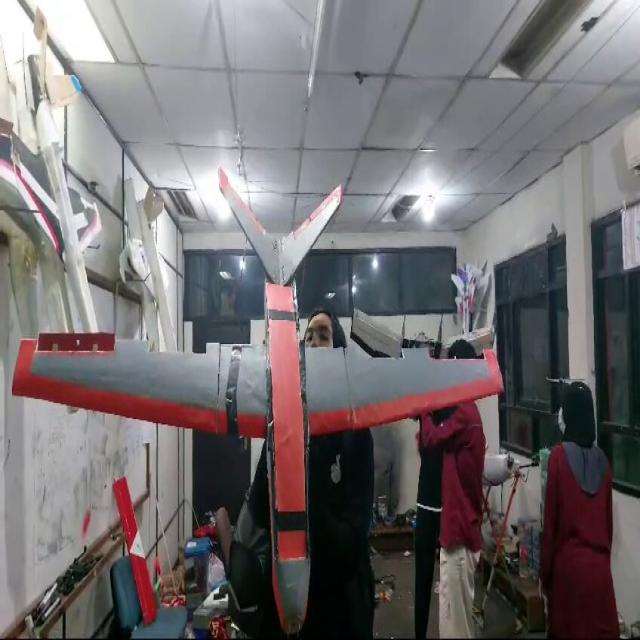plane: (10, 163, 505, 636)
